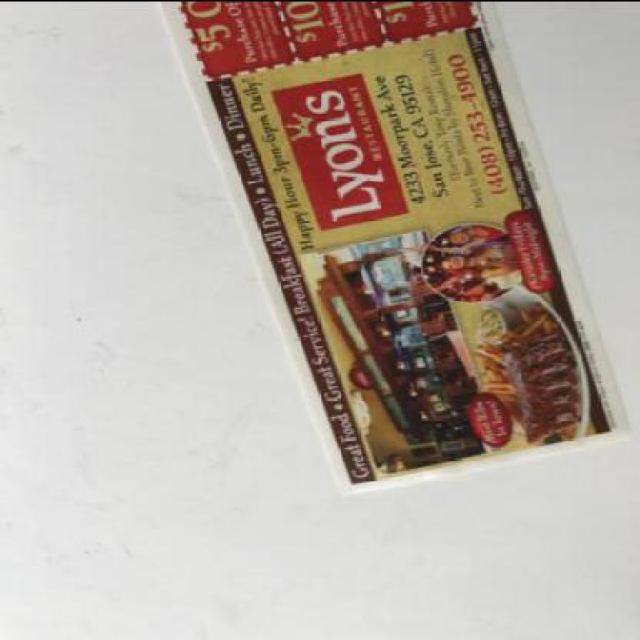PAPER: (158, 2, 638, 496)
